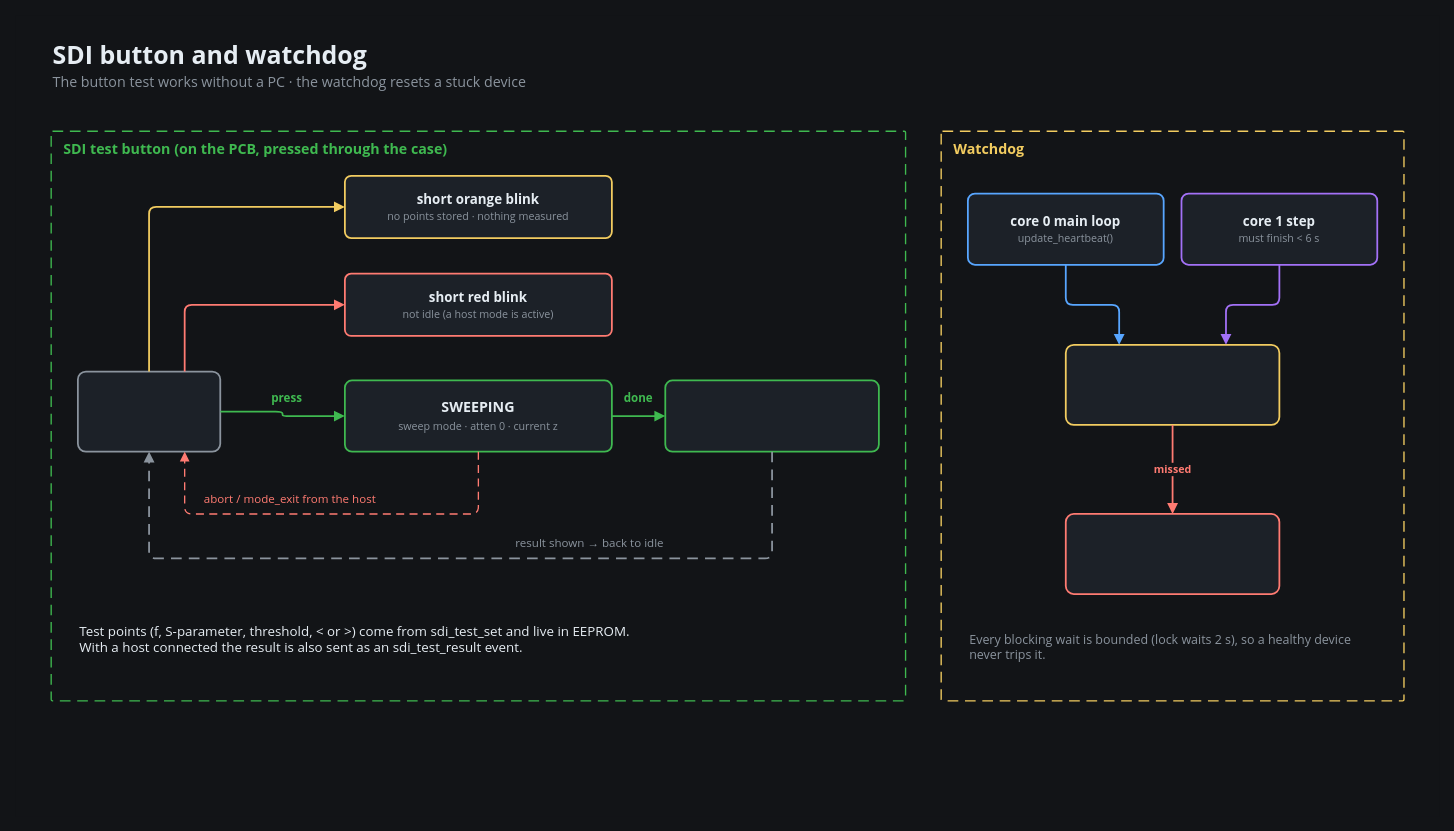
Image size: 1454x831. Some labels were removed from this diagram. The centre of each missing label's shape, as x and y in pixels:
IDLE: (149,411)
reset device re-enumerates on USB: (1172,554)
SHOWING green / red blink per test point: (771,415)
watchdog RP2350 hardware timer: (1172,384)
